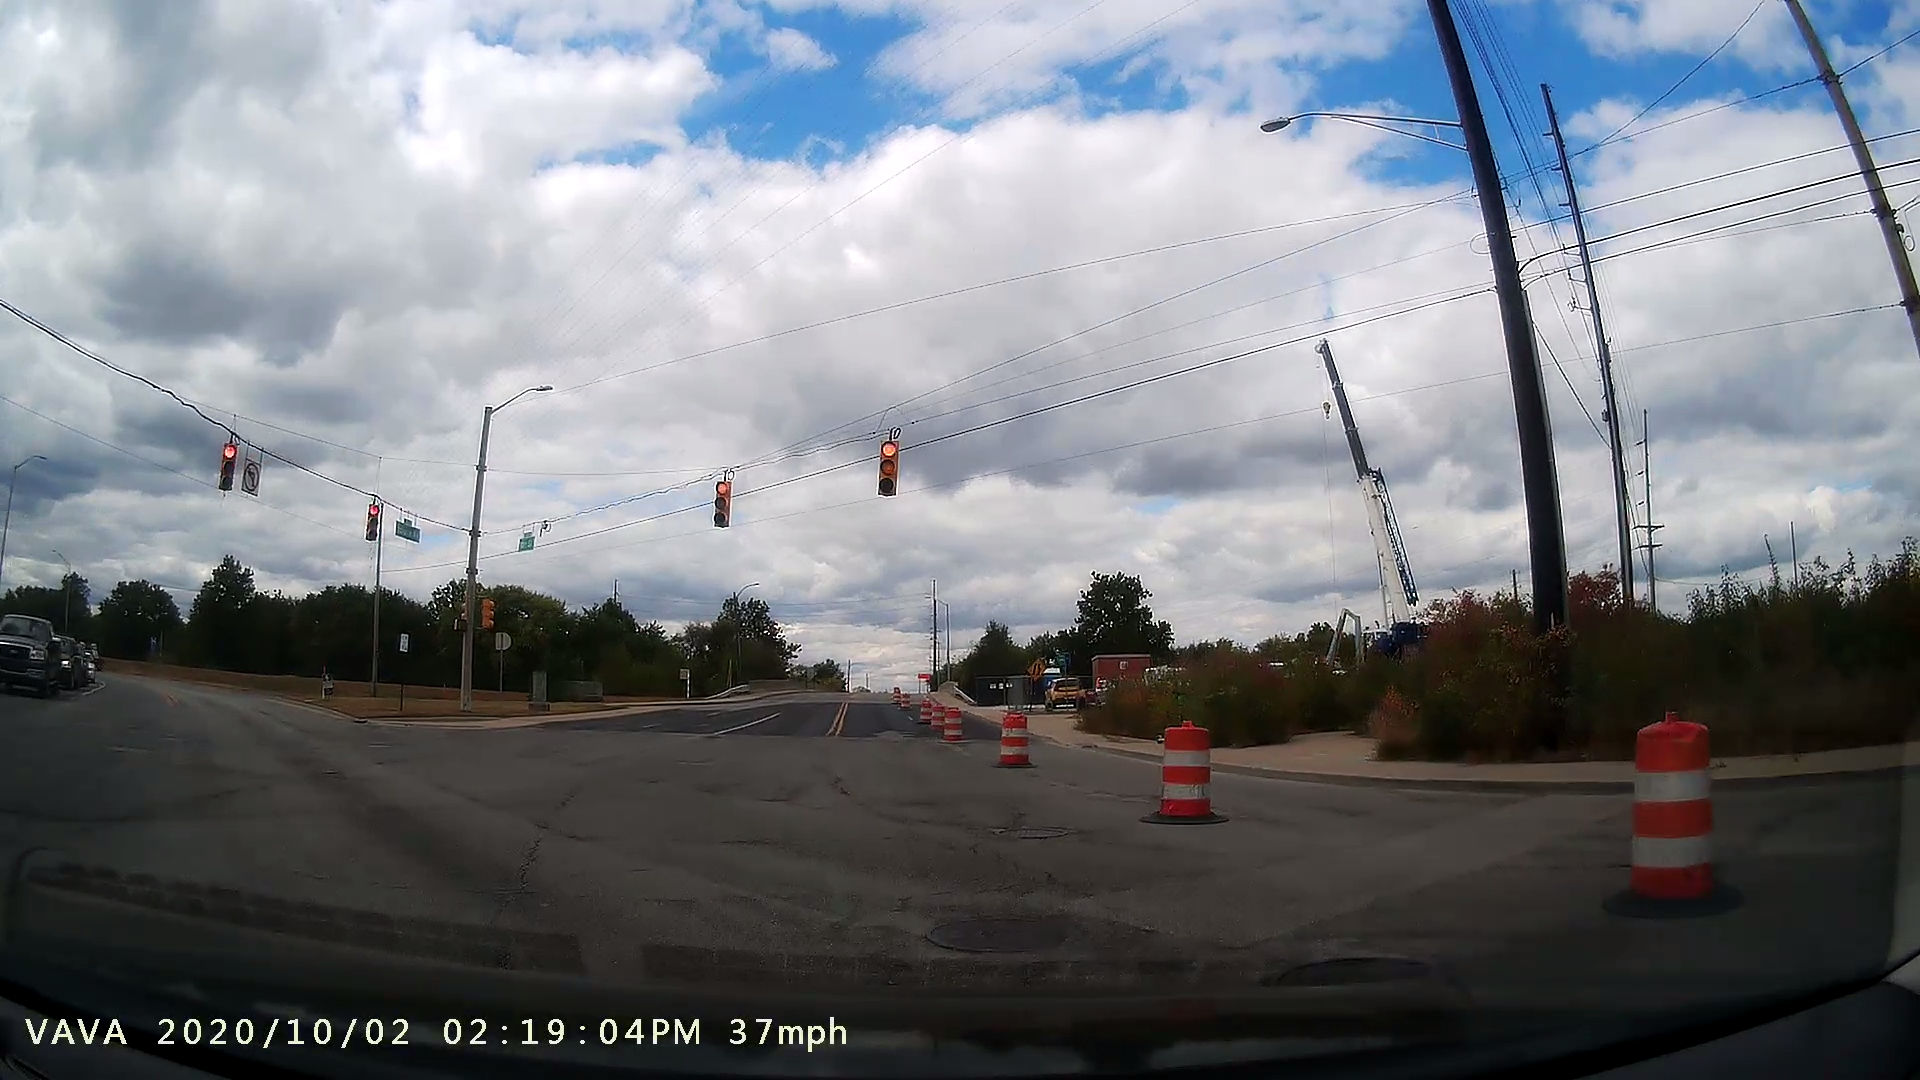const_barrel: (1586, 684, 1753, 928), (1118, 696, 1240, 851), (982, 694, 1040, 778)
